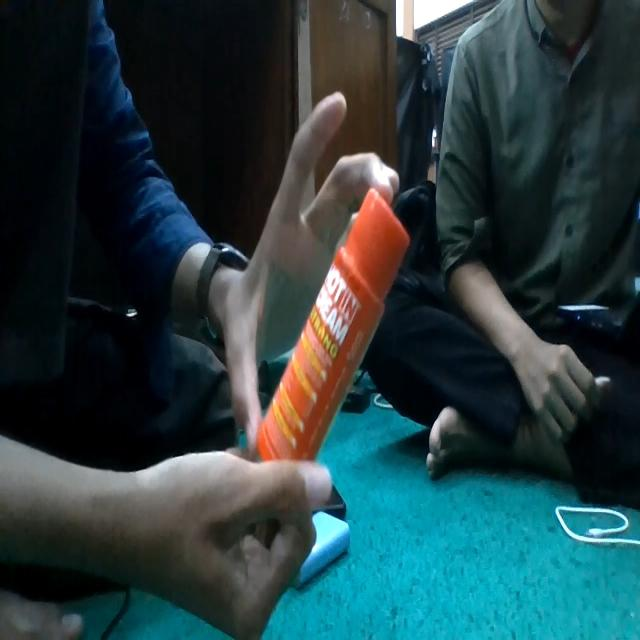Boncabe: (257, 190, 409, 459)
Powerbank: (294, 512, 350, 588)
